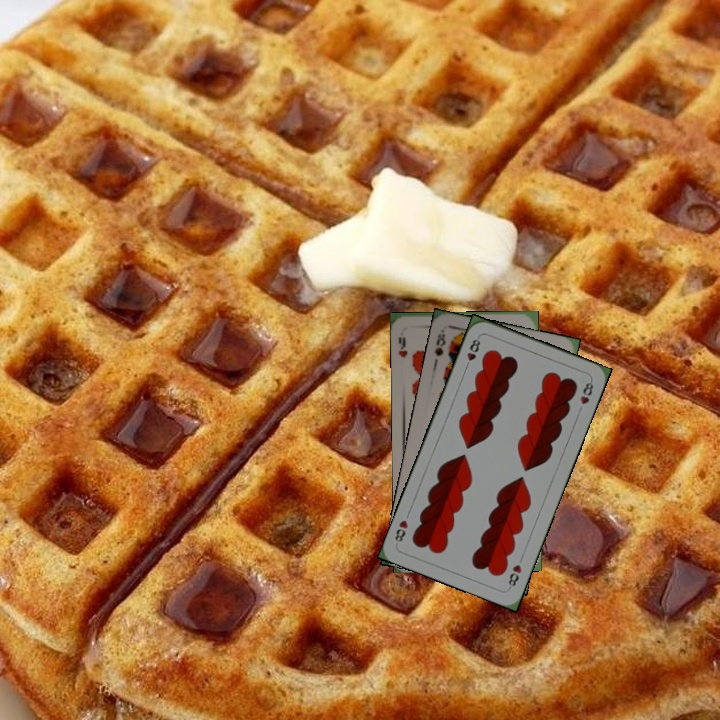H8: (461, 333, 483, 372), (504, 560, 524, 591)
H9: (395, 333, 410, 359)
S8: (431, 326, 448, 359)
